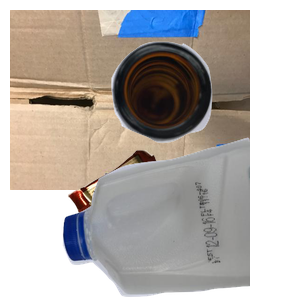cardboard: (10, 10, 250, 190)
glass: (109, 39, 300, 175)
plastic: (60, 135, 300, 300)
trash: (65, 148, 258, 300)
